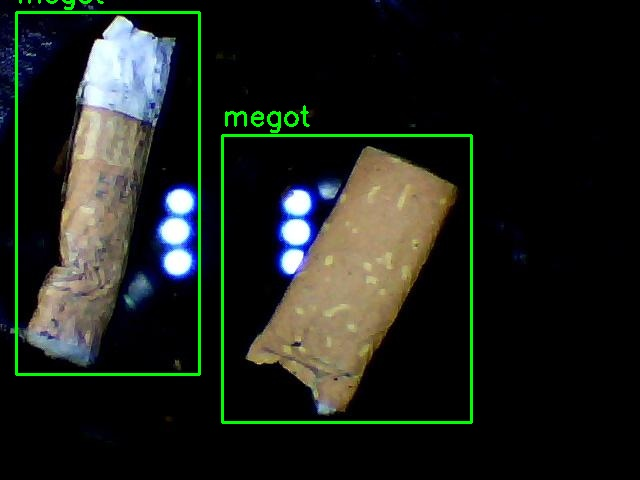megot: (222, 135, 471, 422), (16, 12, 199, 374)
